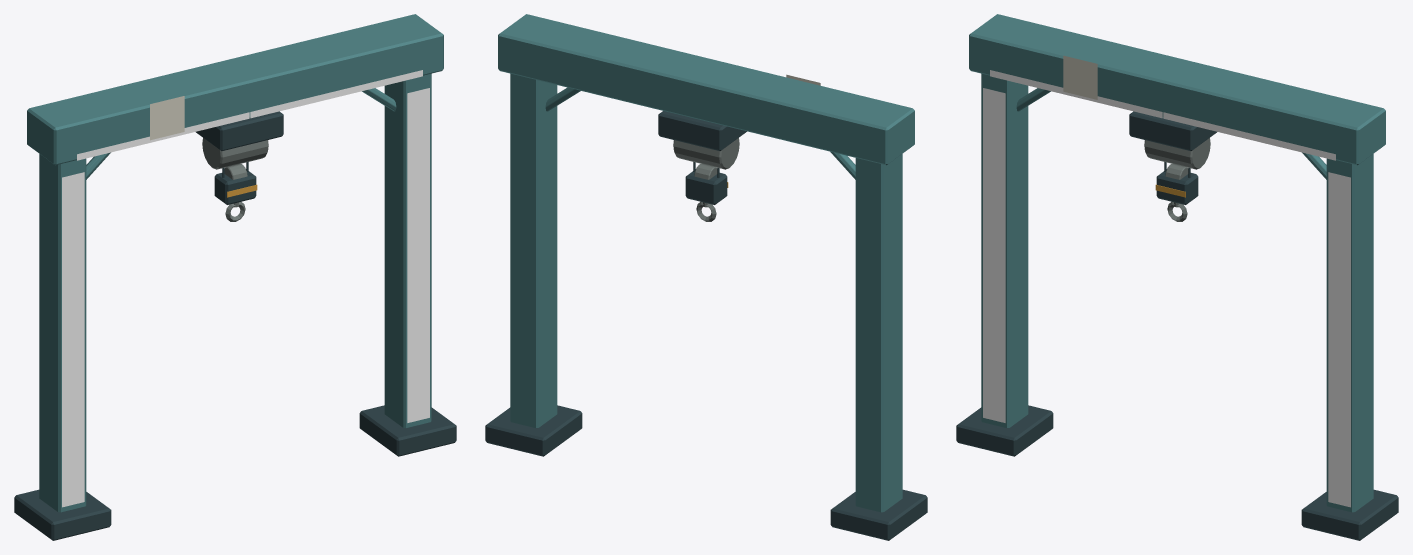
File: overhead-gantry.glb
3 renders of one model, left to right at view 1: azimuth 30°, elevation 25°; view 2: azimuth 150°, elevation 25°; view 3: azimuth 330°, elevation 25°, orthographic.
Parts seen in each view (by area): view 1: overhead-gantry__overhead-gantry__petrol, overhead-gantry__overhead-gantry__decal-hazard, overhead-gantry__overhead-gantry__steel, overhead-gantry__overhead-gantry__hardware, overhead-gantry__overhead-gantry__decal-ivory; view 2: overhead-gantry__overhead-gantry__petrol, overhead-gantry__overhead-gantry__steel, overhead-gantry__overhead-gantry__hardware; view 3: overhead-gantry__overhead-gantry__petrol, overhead-gantry__overhead-gantry__decal-hazard, overhead-gantry__overhead-gantry__steel, overhead-gantry__overhead-gantry__hardware, overhead-gantry__overhead-gantry__decal-ivory.
Part boxes in pixels (x1,y1,x2,y2): overhead-gantry__overhead-gantry__petrol: [27, 14, 443, 512]; overhead-gantry__overhead-gantry__decal-hazard: [62, 70, 429, 507]; overhead-gantry__overhead-gantry__steel: [14, 111, 456, 540]; overhead-gantry__overhead-gantry__hardware: [202, 138, 268, 221]; overhead-gantry__overhead-gantry__decal-ivory: [150, 96, 184, 140]; overhead-gantry__overhead-gantry__petrol: [498, 14, 914, 512]; overhead-gantry__overhead-gantry__steel: [485, 111, 927, 540]; overhead-gantry__overhead-gantry__hardware: [673, 138, 739, 221]; overhead-gantry__overhead-gantry__petrol: [969, 14, 1385, 512]; overhead-gantry__overhead-gantry__decal-hazard: [983, 70, 1350, 507]; overhead-gantry__overhead-gantry__steel: [956, 111, 1398, 540]; overhead-gantry__overhead-gantry__hardware: [1144, 138, 1210, 221]; overhead-gantry__overhead-gantry__decal-ivory: [1063, 55, 1097, 99].
Bounding box in the file's own units: 5.4 × 5.21 × 0.9.
